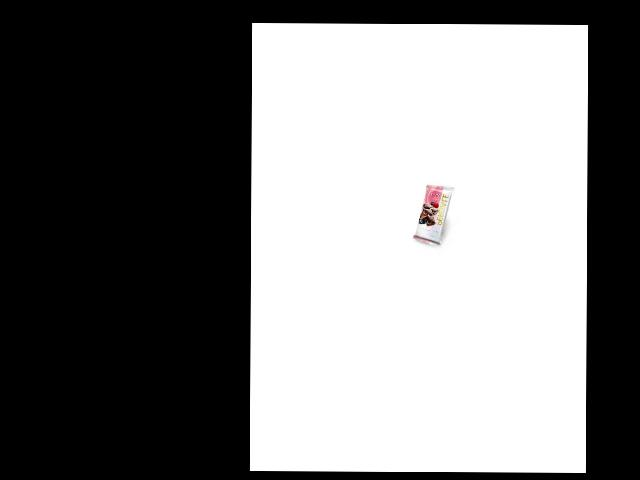chocolate: (411, 185, 454, 243)
